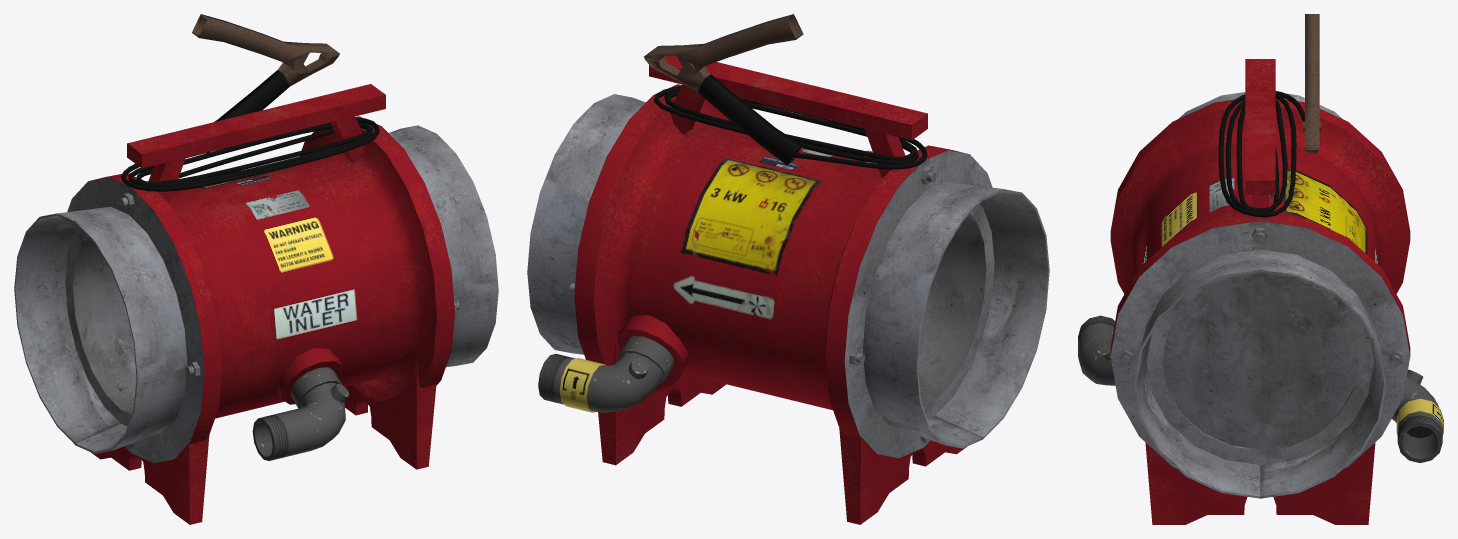
The model's file is ramfan2.obj.
3 views of the same model, side by side, from view 1: azimuth 30°, elevation 25°; view 2: azimuth 150°, elevation 25°; view 3: azimuth 270°, elevation 25° (orthographic). The views are drawn at different scales.
Visible parts, largest first — view 1: pCylinder25_Untitled.003, extrudedSurface1_Untitled.004, pCylinder28_Untitled.005; view 2: pCylinder25_Untitled.003, pCylinder28_Untitled.005, extrudedSurface1_Untitled.004; view 3: pCylinder25_Untitled.003, extrudedSurface1_Untitled.004, pCylinder28_Untitled.005.
Boxes of the visible parts, x1,y1,x2,y2 form: pCylinder25_Untitled.003: [14, 84, 498, 524]; extrudedSurface1_Untitled.004: [121, 118, 379, 191]; pCylinder28_Untitled.005: [192, 14, 339, 153]; pCylinder25_Untitled.003: [527, 55, 1049, 524]; pCylinder28_Untitled.005: [644, 14, 803, 165]; extrudedSurface1_Untitled.004: [653, 86, 927, 169]; pCylinder25_Untitled.003: [1078, 59, 1443, 524]; extrudedSurface1_Untitled.004: [1218, 91, 1304, 217]; pCylinder28_Untitled.005: [1303, 14, 1321, 153].
Size of the model in its own units: 0.9335 by 1.06 by 0.801.
